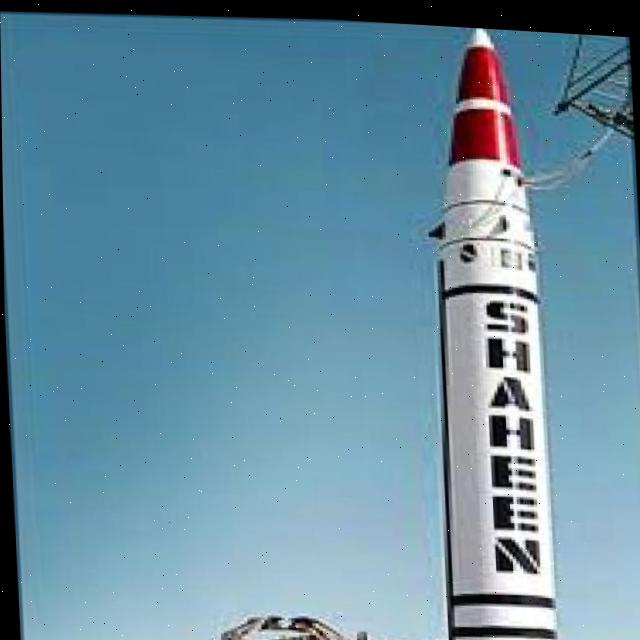missile: (420, 20, 562, 640)
